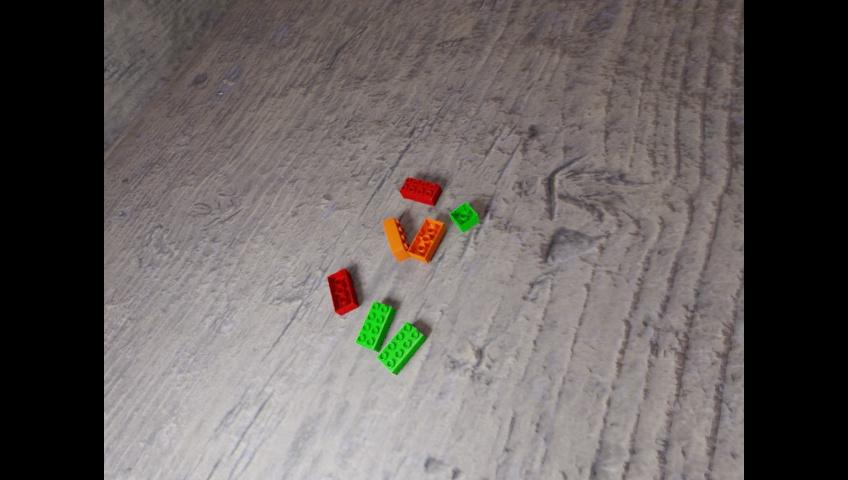2x2_green: (449, 201, 478, 232)
4x2_green: (376, 321, 426, 374), (355, 300, 395, 352)
4x2_orange: (407, 217, 445, 263), (383, 216, 409, 261)
4x2_red: (327, 268, 358, 315), (399, 176, 441, 205)
